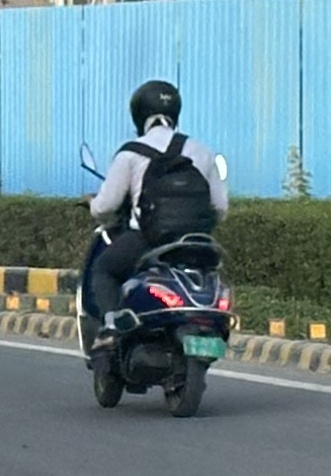BikeWithRider: (66, 73, 247, 421)
Helmet: (122, 74, 188, 140)
